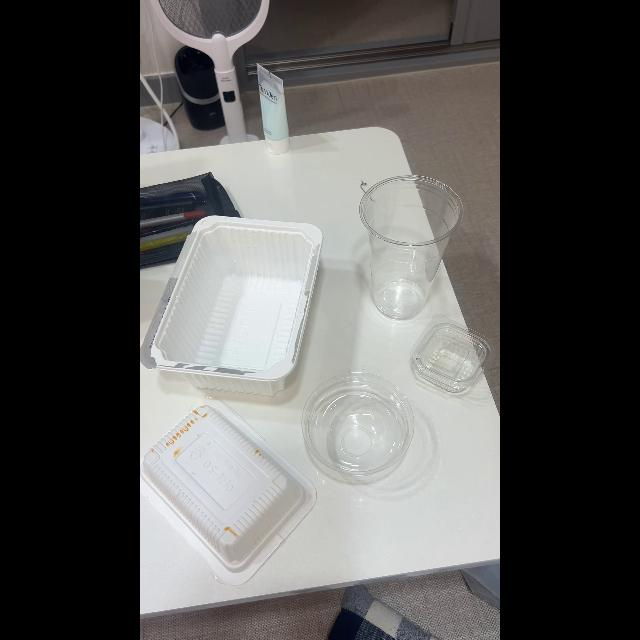clean: (162, 214, 312, 393), (360, 174, 462, 318), (302, 372, 414, 478), (413, 316, 491, 394)
dirty: (144, 402, 296, 578)
